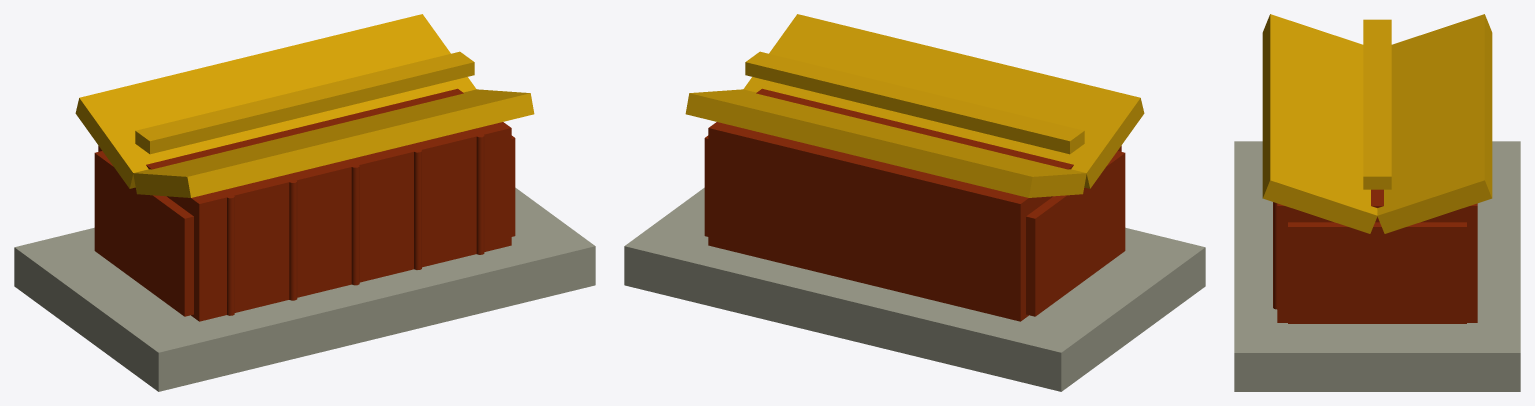
Rendered from forbidden-city.glb.
The picture shows the model from 3 angles, left to right: view 1: azimuth 30°, elevation 25°; view 2: azimuth 150°, elevation 25°; view 3: azimuth 270°, elevation 25°; orthographic projection.
Bounding box in the file's own units: 70 × 29.15 × 40.
